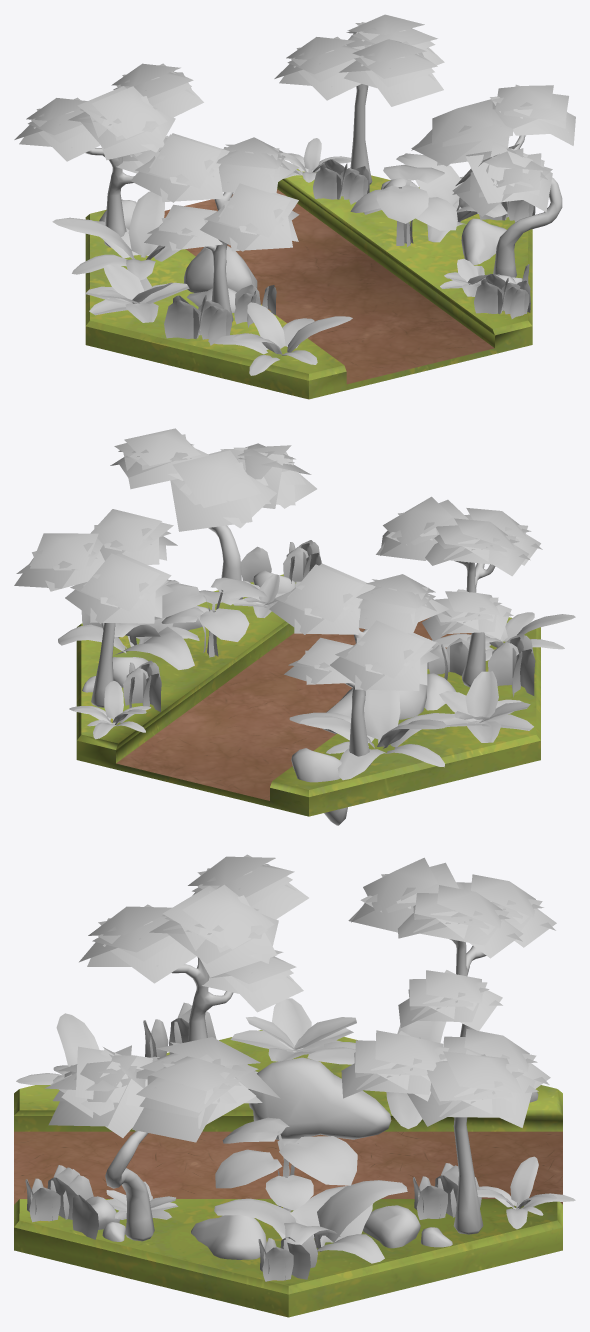
Rendered from HexTile2.fbx.
3 views of the same model, one above another, from view 1: azimuth 30°, elevation 25°; view 2: azimuth 150°, elevation 25°; view 3: azimuth 270°, elevation 25° (orthographic). The views are drawn at different scales.
Visible parts, largest first — view 1: Terrain_01.003, Tree7.002, Tree5.001, Tree3.001, Tree6.002, plant1.004, monsteraPlant.003, plant1.003, plant3.005, plant2.003, rock2_low.003, rock2_low.010 (+6 smaller); view 2: Terrain_01.003, Tree3.001, Tree5.001, Tree6.002, Tree7.002, plant1.004, monsteraPlant.003, plant3.005, plant2.003, plant1.003, plant1.005, rock2_low.005 (+10 smaller); view 3: Terrain_01.003, Tree7.002, Tree5.001, Tree3.001, Tree6.002, rock2_low.003, monsteraPlant.003, plant2.003, plant3.005, rock2_low.010, plant1.004, plant1.005 (+8 smaller).
Part boxes in pixels (x1,y1,x2,y2): Terrain_01.003: (85, 169, 532, 399); Tree7.002: (130, 133, 300, 322); Tree5.001: (411, 84, 575, 277); Tree3.001: (14, 63, 203, 247); Tree6.002: (274, 14, 444, 184); plant1.004: (52, 191, 180, 280); monsteraPlant.003: (350, 164, 457, 246); plant1.003: (208, 302, 352, 375); plant3.005: (85, 263, 189, 322); plant2.003: (363, 153, 507, 242); rock2_low.003: (184, 245, 257, 292); rock2_low.010: (461, 218, 506, 265); Terrain_01.003: (76, 574, 540, 816); Tree3.001: (269, 563, 451, 766); Tree5.001: (110, 428, 316, 599); Tree6.002: (14, 509, 177, 707); Tree7.002: (376, 496, 542, 687); plant1.004: (289, 690, 454, 780); monsteraPlant.003: (154, 577, 267, 657); plant3.005: (439, 671, 533, 742); plant2.003: (58, 579, 199, 669); plant1.003: (435, 589, 575, 660); plant1.005: (69, 681, 150, 739); rock2_low.005: (291, 748, 347, 825); Terrain_01.003: (14, 1030, 562, 1317); Tree7.002: (79, 854, 308, 1041); Tree5.001: (44, 1037, 280, 1241); Tree3.001: (348, 857, 556, 1036); Tree6.002: (341, 1028, 550, 1234); rock2_low.003: (248, 1057, 391, 1139); monsteraPlant.003: (215, 1117, 357, 1211); plant2.003: (214, 1180, 407, 1263); plant3.005: (230, 998, 356, 1061); rock2_low.010: (191, 1215, 266, 1259); plant1.004: (307, 1020, 446, 1128); plant1.005: (477, 1156, 575, 1229).
Bounding box in the file's own units: 2026 × 938 × 1771.
